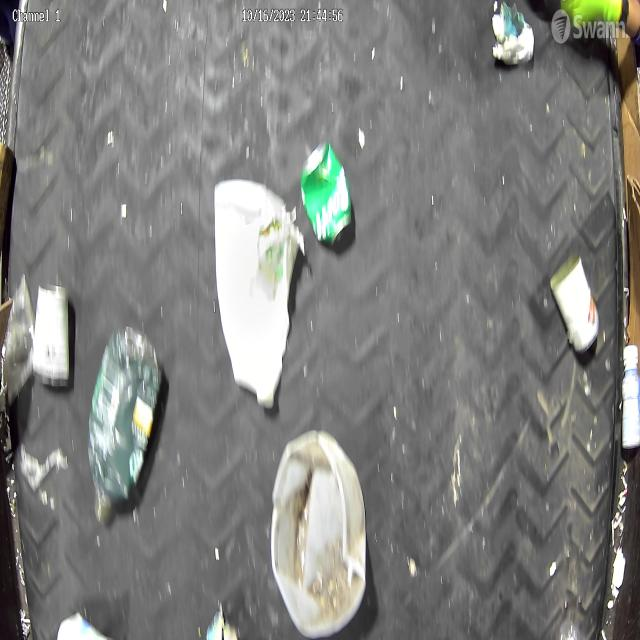can: (300, 140, 354, 247), (550, 250, 601, 354), (33, 280, 70, 390)
milk_jug: (213, 178, 299, 410)
plastic_bottle: (89, 322, 165, 522)
